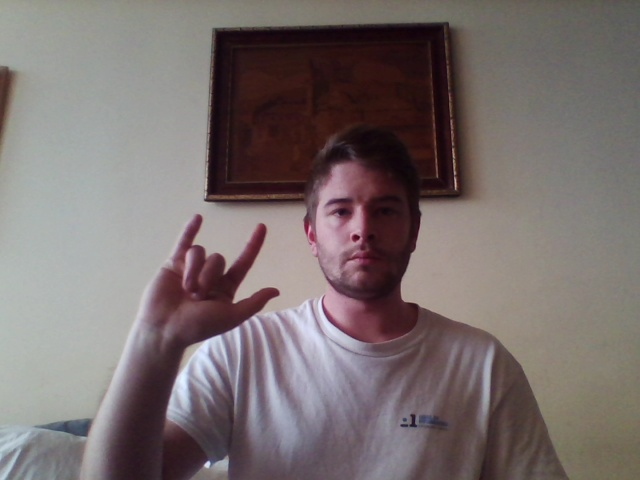volimte: (133, 211, 280, 340)
